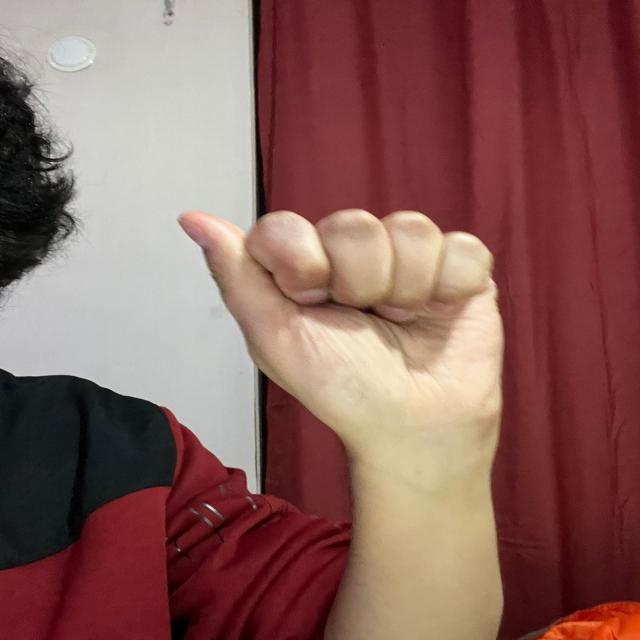A: (164, 204, 520, 421)
